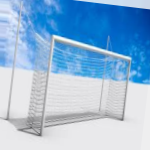goals: (19, 30, 133, 138)
